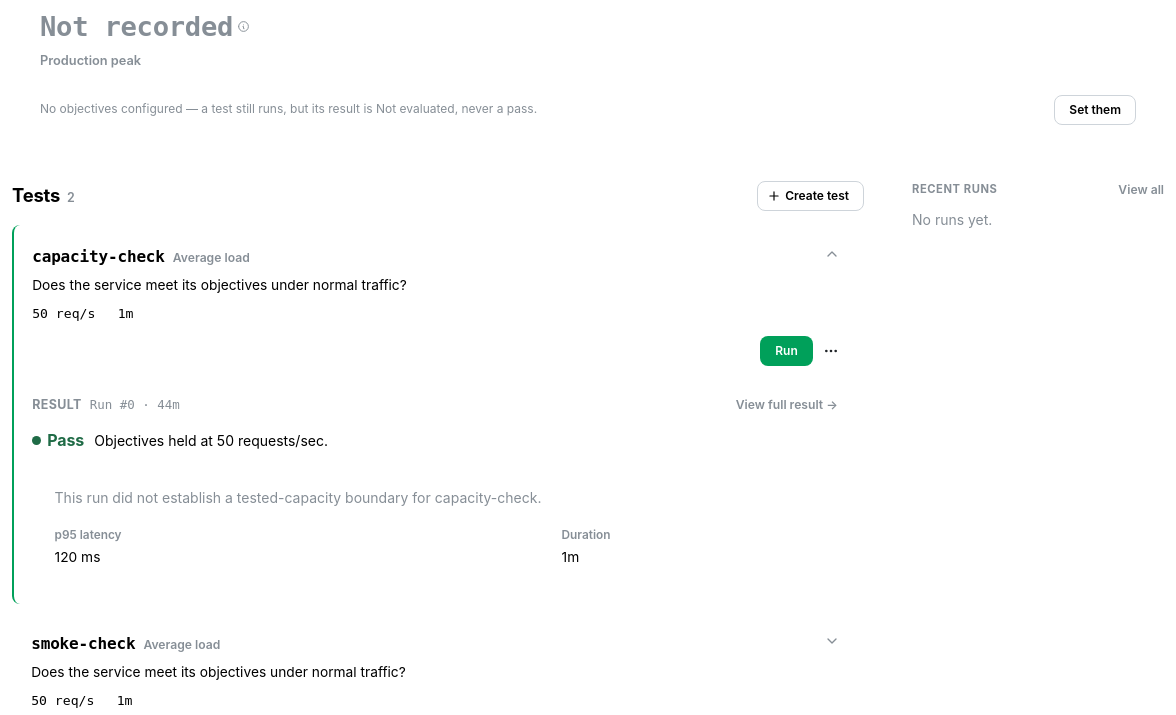
the overview page › expands the clicked test's own row from its expand control, without navigating away
expect the button named "Collapse capacity-check's result" is shown: met, box 819,241 -> 845,267
Step 1. Click the button named "Expand smoke-check's result" → (832, 641), box 819,628 -> 845,654
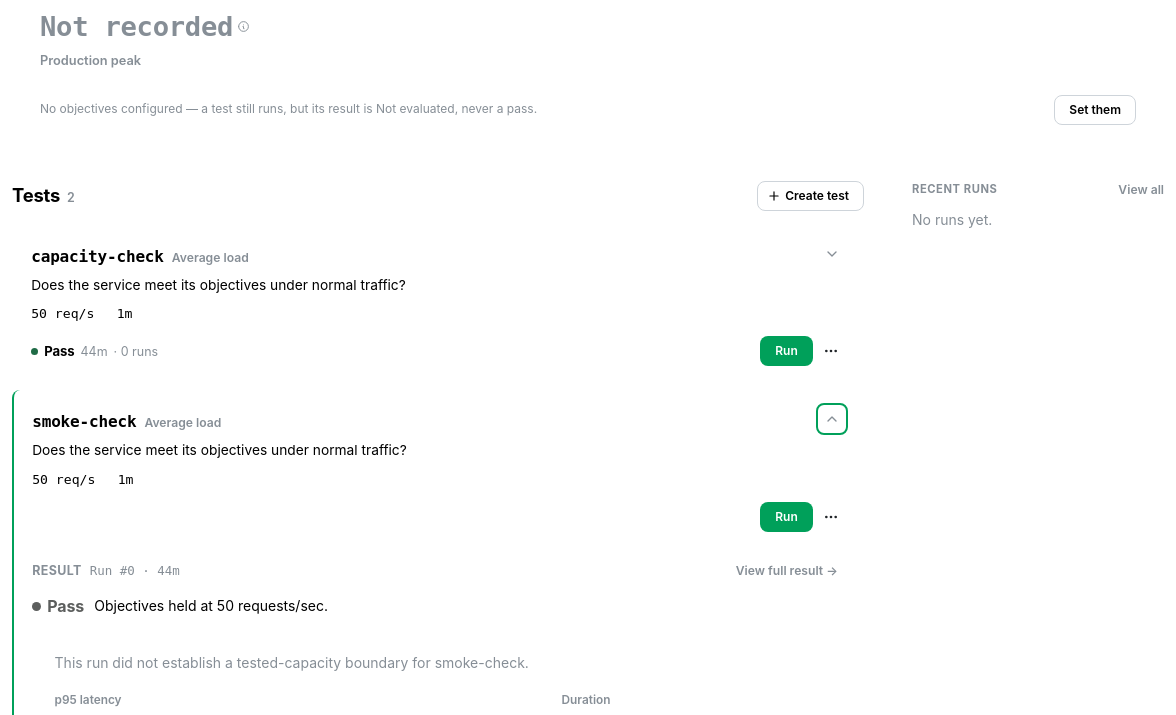
expect the button named "Collapse smoke-check's result" is shown: met, box 819,406 -> 845,432
expect the button named "Expand capacity-check's result" is shown: met, box 819,241 -> 845,267
